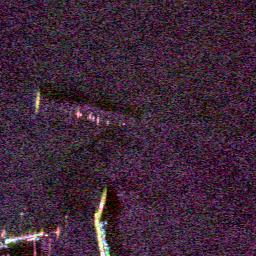Ship: (31, 90, 46, 119)
